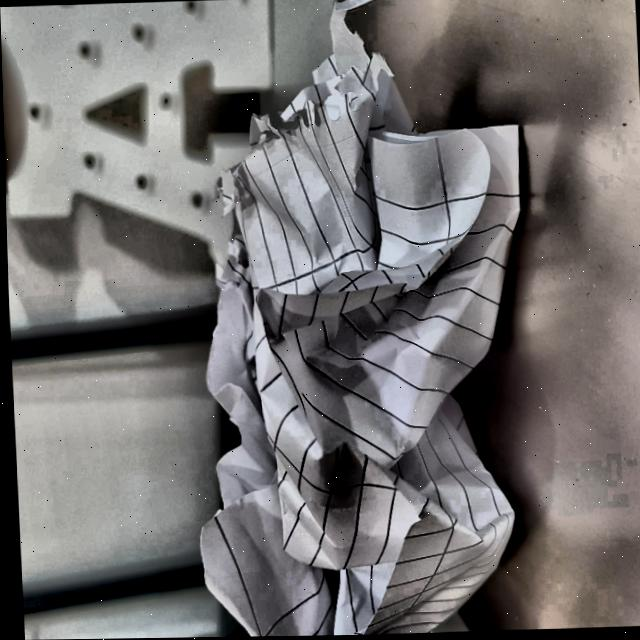paper: (197, 39, 539, 638)
